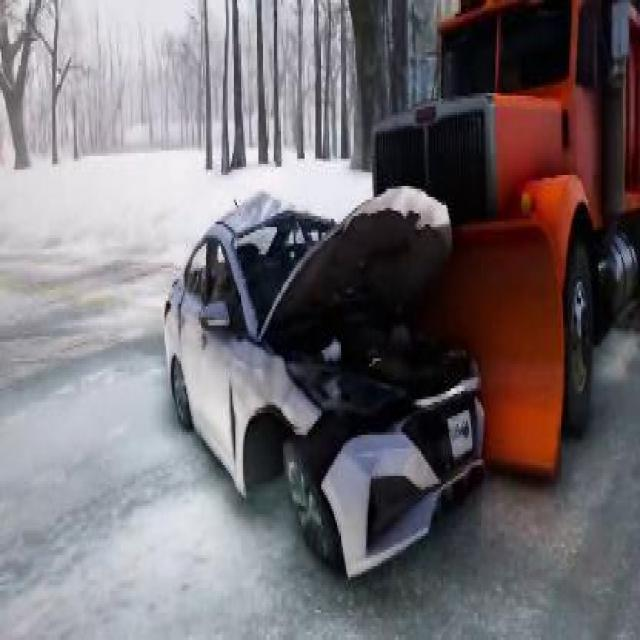accident: (158, 14, 638, 585)
